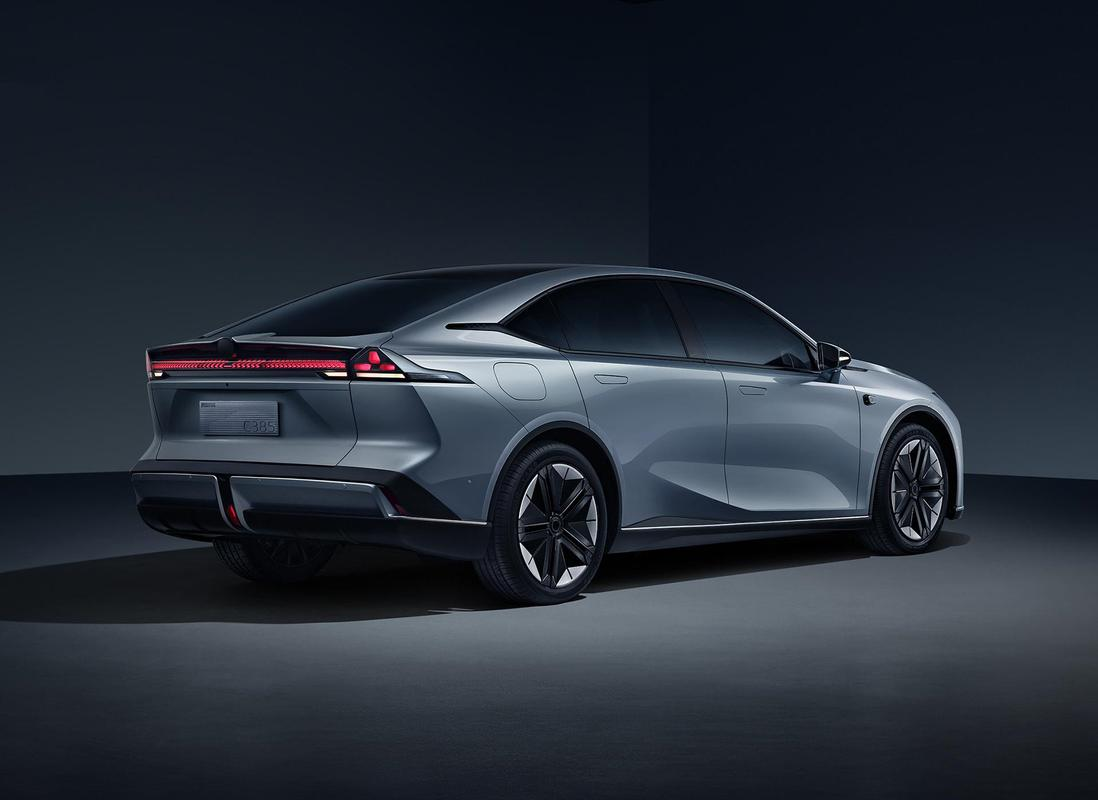汽车: (120, 263, 985, 608)
